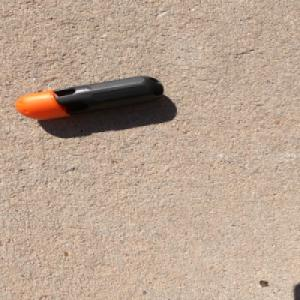PlasticPart: (13, 74, 164, 121)
